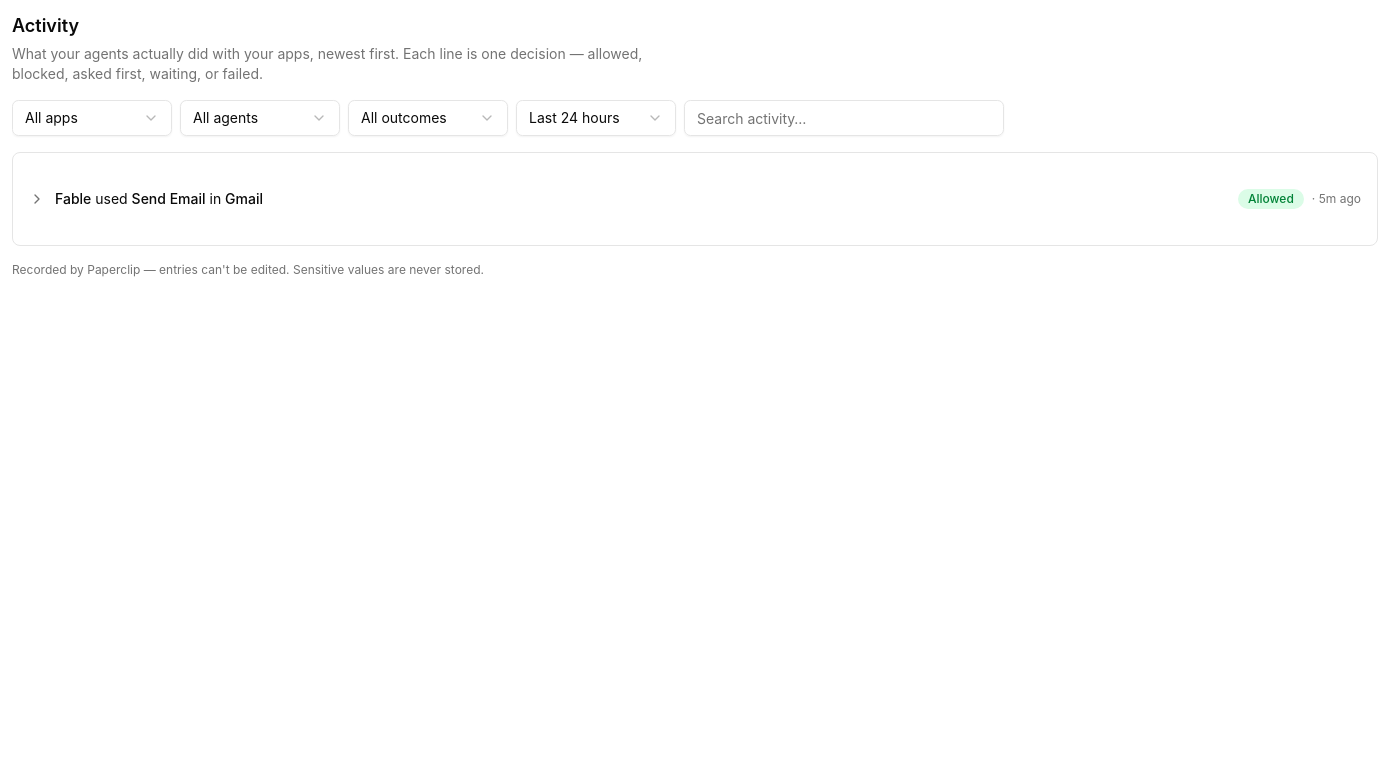
it: AuditTab › shows redacted parameters and MCP transport diagnostics
The image size is (1390, 780).
Click the button "Fable used Send Email in Gmail Allowed · 5m ago": click(73, 198) x1=13 y1=177 x2=1377 y2=221
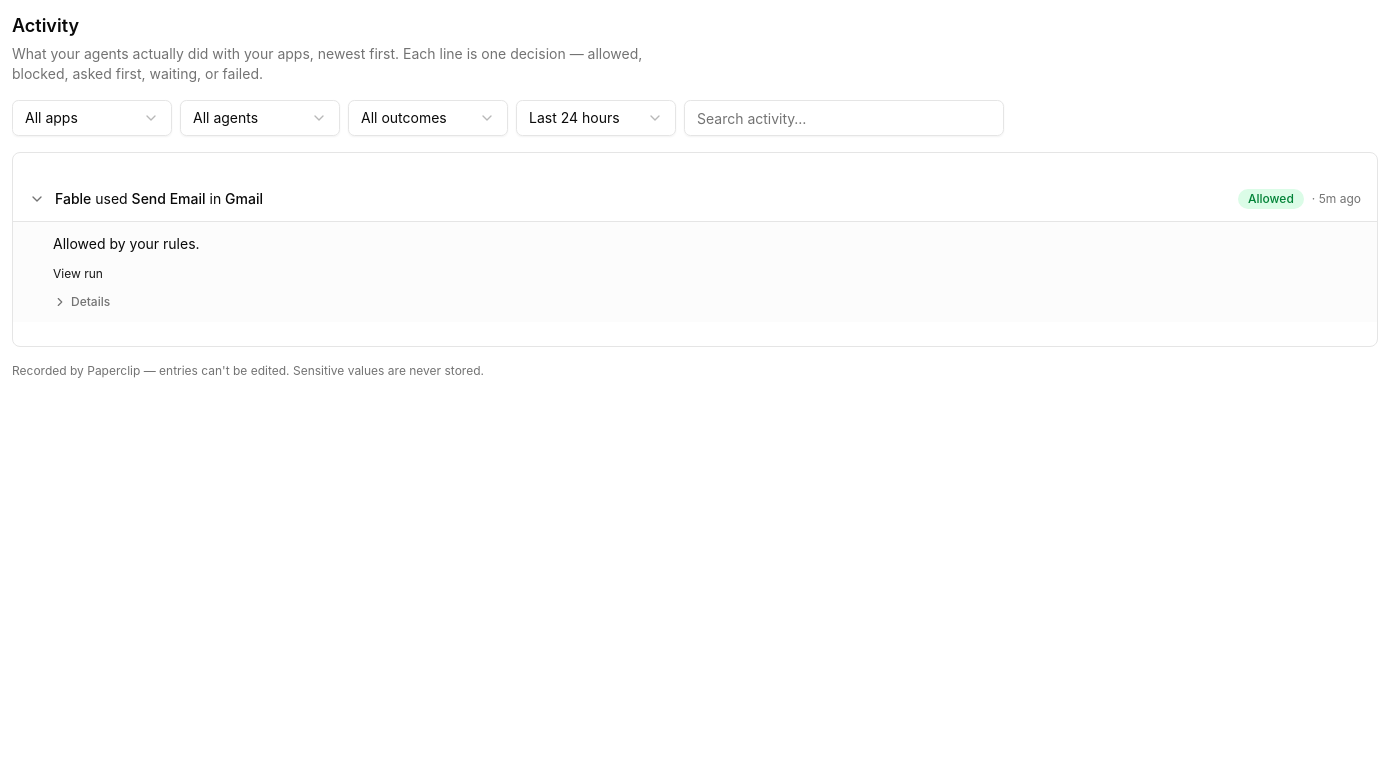
Expected: the button "Details" is shown
Click the button "Details": click(82, 302) x1=53 y1=294 x2=110 y2=310
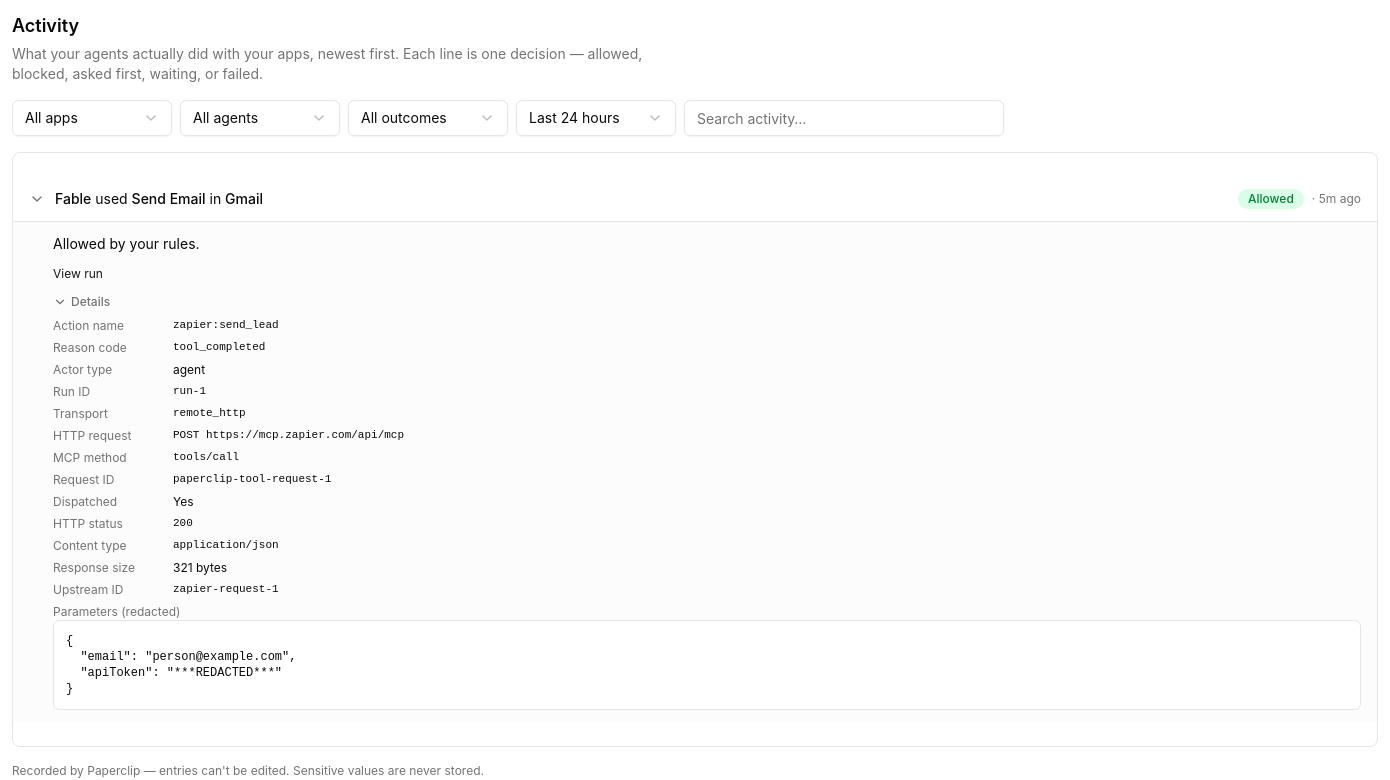
Expected: the text "Parameters (redacted)" is shown, x1=53 y1=604 x2=180 y2=619
Expected: the text "person@example.com" is shown, x1=66 y1=634 x2=296 y2=696
Expected: the text "***REDACTED***" is shown, x1=66 y1=634 x2=296 y2=696
